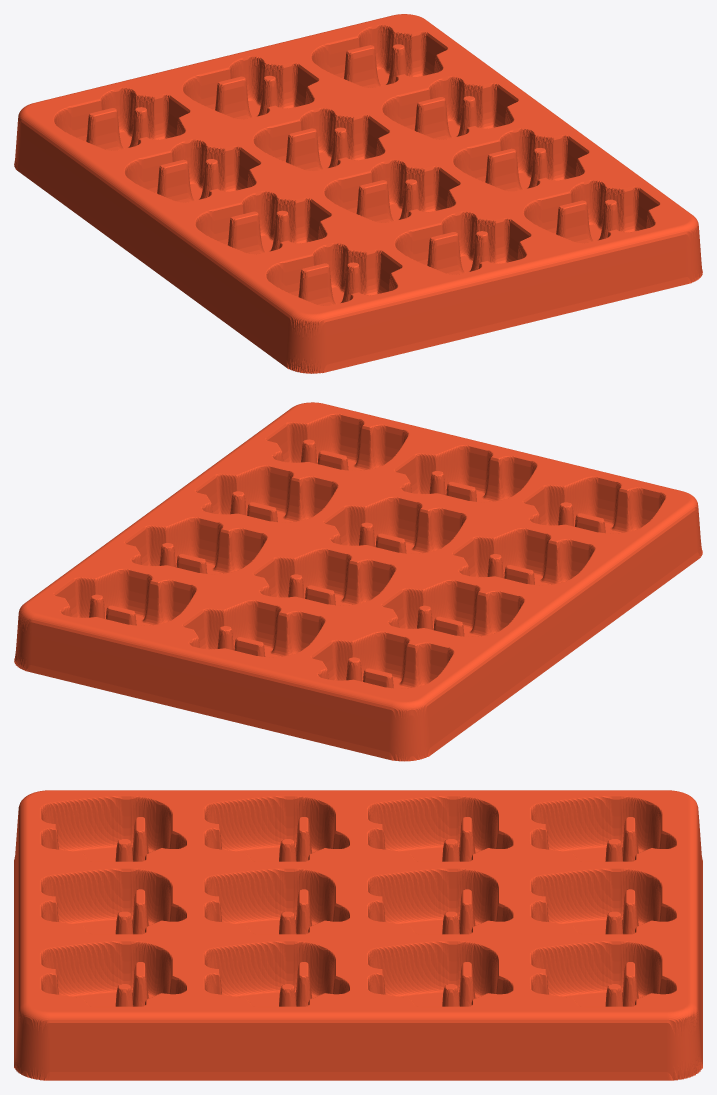
The model's file is mold.glb.
3 renders of one model, top to bottom at view 1: azimuth 30°, elevation 25°; view 2: azimuth 150°, elevation 25°; view 3: azimuth 270°, elevation 25°, orthographic. The views are drawn at different scales.
Visible parts, largest first — view 1: geometry_0; view 2: geometry_0; view 3: geometry_0.
Boxes of the visible parts, <box> form: geometry_0: <box>14,14,702,373</box>; geometry_0: <box>14,402,702,761</box>; geometry_0: <box>14,790,702,1080</box>.
Bounding box in the file's own units: 0.1389 × 0.0175 × 0.1738.
